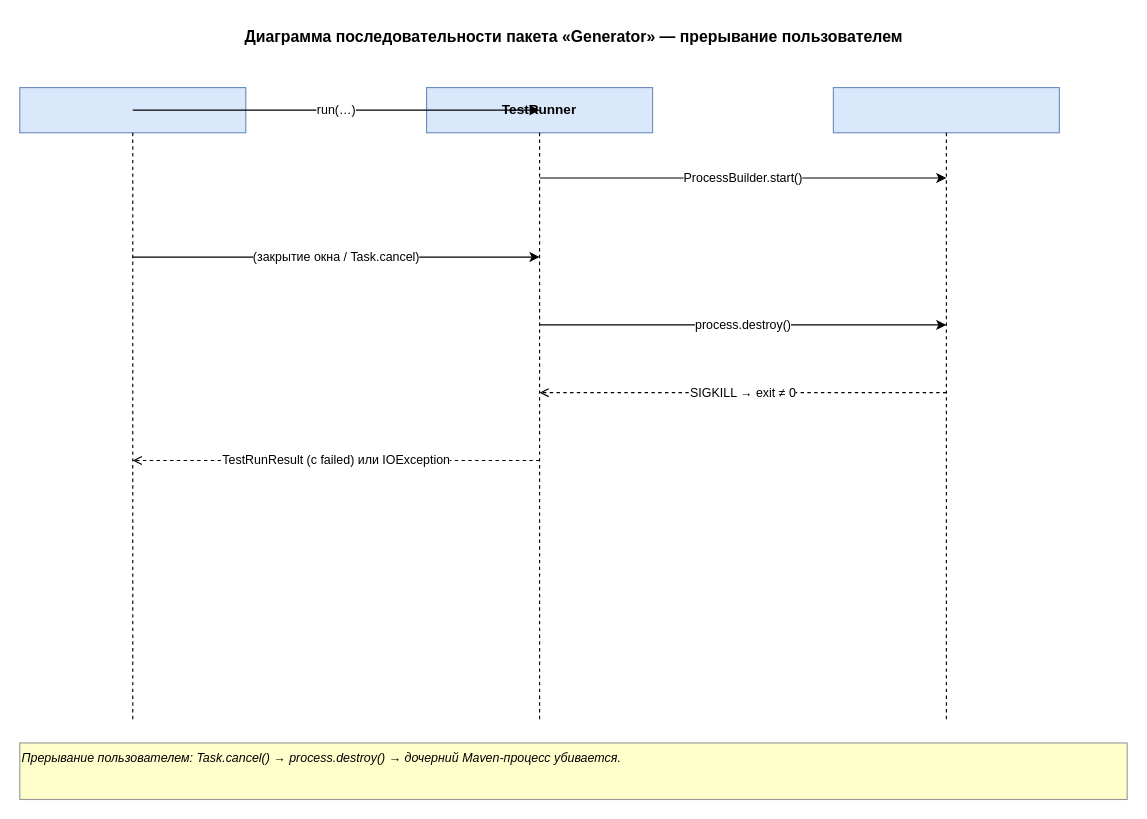
Some shapes in this 1147 by 819 pixel diagram are drawn without their labels. The centre of each missing label's shape, as x and y in pixels:
"MainController" belongs at pixel 132 109.
"Maven Process" belongs at pixel 945 109.
